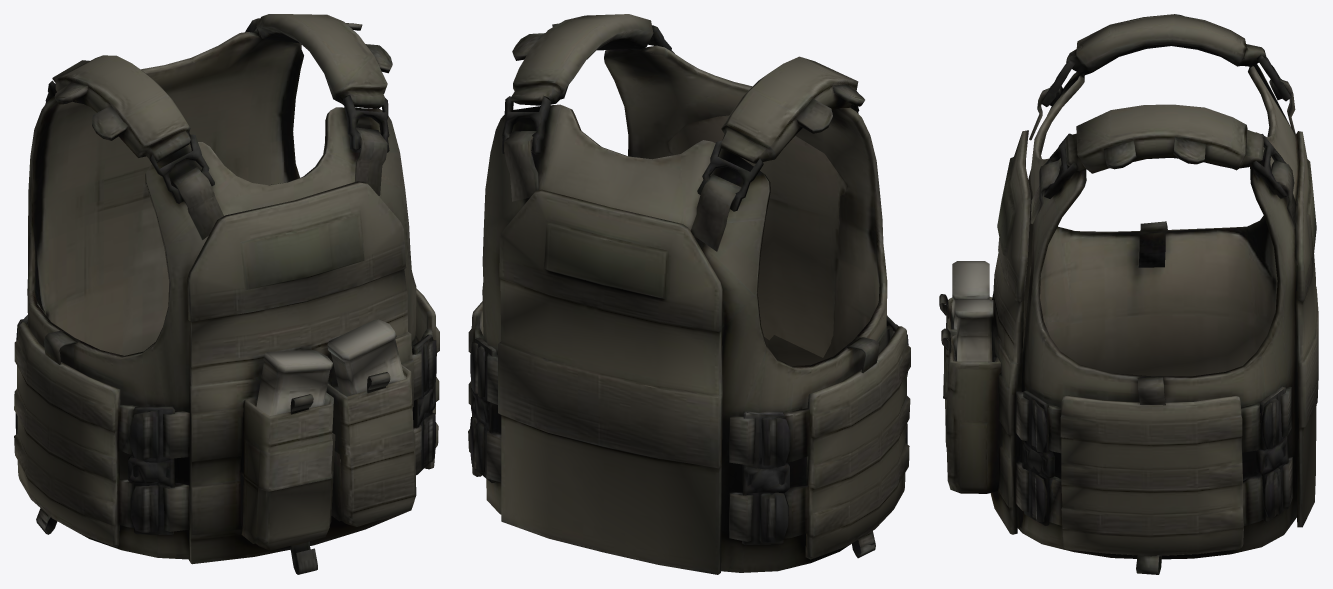
File: colete.glb
3 views of the same model, side by side, from view 1: azimuth 30°, elevation 25°; view 2: azimuth 150°, elevation 25°; view 3: azimuth 270°, elevation 25° (orthographic). The views are drawn at different scales.
Parts seen in each view (by area): view 1: Dustworn Olive Plate Carrier; view 2: Dustworn Olive Plate Carrier; view 3: Dustworn Olive Plate Carrier.
Boxes of the visible parts, x1,y1,x2,y2 form: Dustworn Olive Plate Carrier: (14, 14, 439, 574); Dustworn Olive Plate Carrier: (468, 14, 910, 574); Dustworn Olive Plate Carrier: (939, 14, 1318, 574).
Bounding box in the file's own units: 0.8458 × 0.998 × 0.7949.
Materials: 1 (1 with a texture image).
